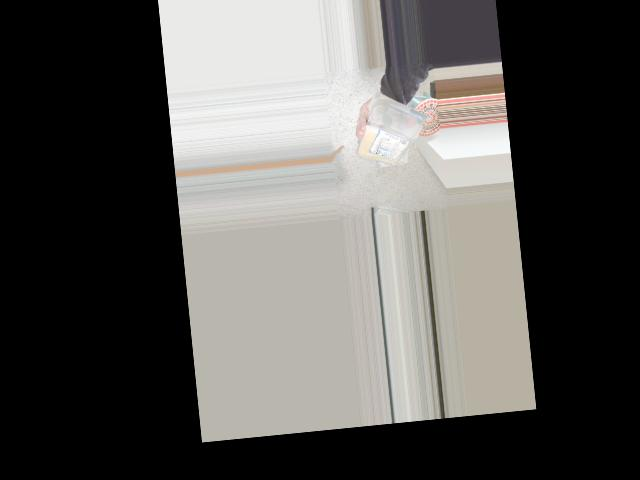cheese: (360, 93, 432, 173)
